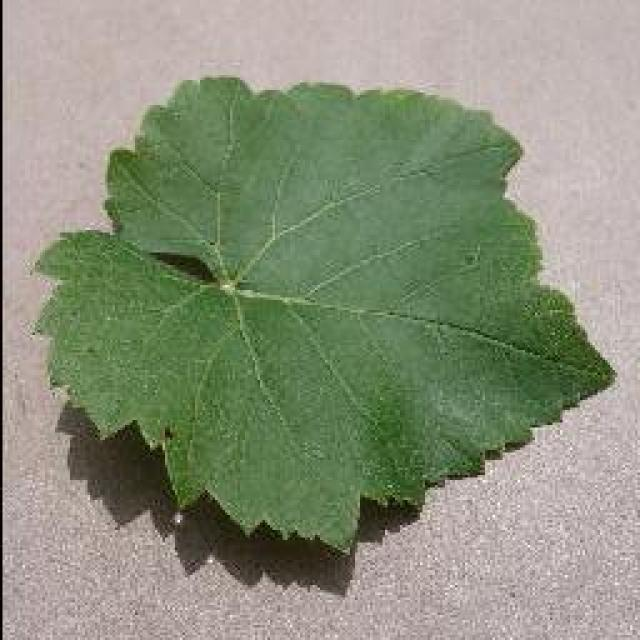Grape___healthy: (40, 78, 610, 550)
